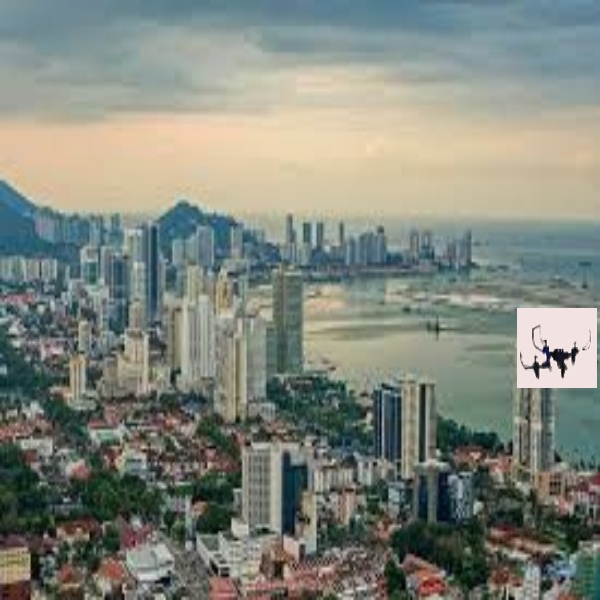drone: (513, 311, 594, 384)
